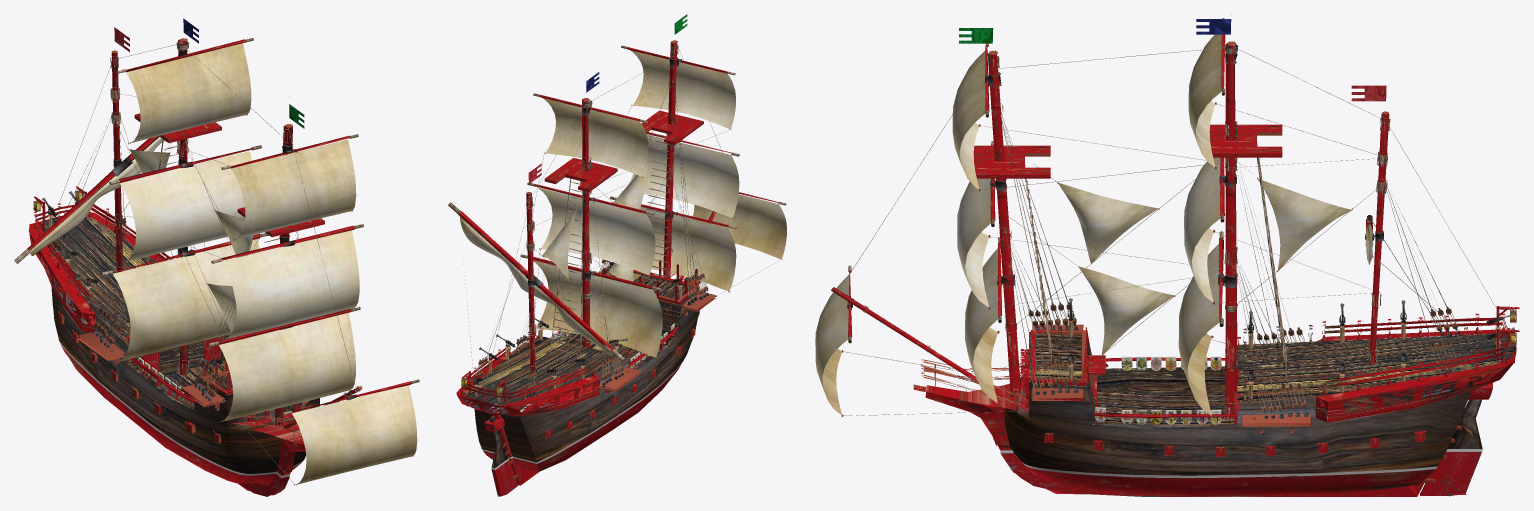
The model's file is galeon-ligero.glb.
The picture shows the model from 3 angles, left to right: view 1: azimuth 30°, elevation 25°; view 2: azimuth 150°, elevation 25°; view 3: azimuth 270°, elevation 25°; orthographic projection. The views are drawn at different scales.
Parts seen in each view (by area): view 1: Object_141, Object_143, Object_140, Object_36, Object_33, Object_146, Object_83, Object_37, Object_34, Object_74, Object_11, Object_84 (+5 smaller); view 2: Object_141, Object_143, Object_140, Object_36, Object_33, Object_146, Object_37, Object_34, Object_83, Object_11, Object_84, Object_139 (+8 smaller); view 3: Object_143, Object_141, Object_140, Object_146, Object_83, Object_36, Object_33, Object_34, Object_37, Object_139, Object_74, Object_95 (+7 smaller).
Part boxes in pixels (x1,y1,x2,y2): Object_141: (113, 43, 417, 484); Object_143: (45, 215, 305, 473); Object_140: (37, 215, 232, 419); Object_36: (111, 39, 413, 485); Object_33: (56, 14, 351, 441); Object_146: (35, 204, 300, 485); Object_83: (129, 149, 253, 332); Object_37: (28, 212, 165, 332); Object_34: (33, 124, 305, 475); Object_74: (45, 41, 355, 484); Object_11: (29, 137, 164, 255); Object_84: (27, 136, 220, 443); Object_141: (533, 50, 786, 357); Object_143: (472, 287, 699, 462); Object_140: (464, 273, 692, 404); Object_36: (526, 47, 782, 394); Object_33: (481, 77, 728, 392); Object_146: (463, 345, 680, 471); Object_37: (456, 354, 599, 416); Object_34: (461, 40, 700, 405); Object_83: (541, 155, 650, 281); Object_11: (459, 216, 611, 354); Object_84: (458, 211, 695, 438); Object_139: (491, 326, 678, 496); Object_143: (1004, 345, 1514, 475); Object_141: (815, 34, 1221, 416); Object_140: (1029, 325, 1513, 448); Object_146: (1017, 317, 1509, 496); Object_83: (1058, 178, 1352, 356); Object_36: (831, 34, 1389, 433); Object_33: (913, 14, 1423, 433); Object_34: (925, 50, 1510, 450); Object_37: (1315, 329, 1516, 422); Object_139: (1000, 357, 1481, 496); Object_74: (840, 44, 1507, 420); Object_95: (848, 18, 1440, 381).
Bounding box in the file's own units: 6.26 × 12.13 × 16.1.
58 materials, 57 textured.
